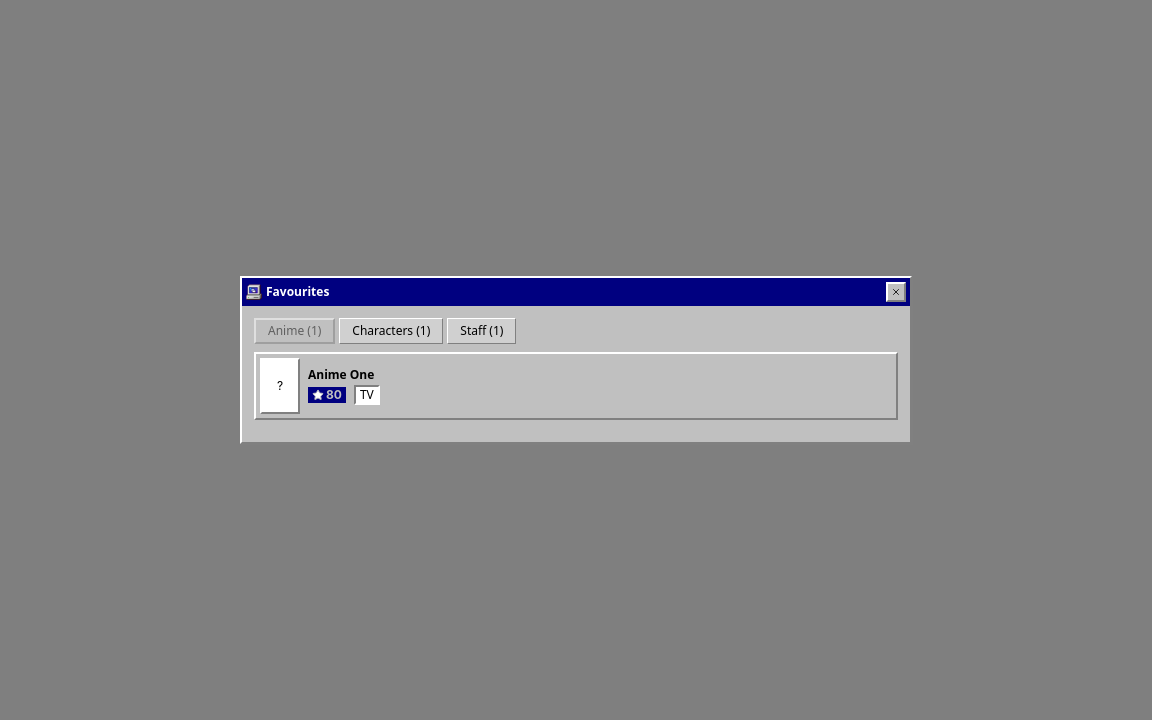
Test case: AniListFavouritesModal tabs › switches to the characters tab on click
Click the tab "Characters (1)" at (391, 331), box [339,318,443,344]
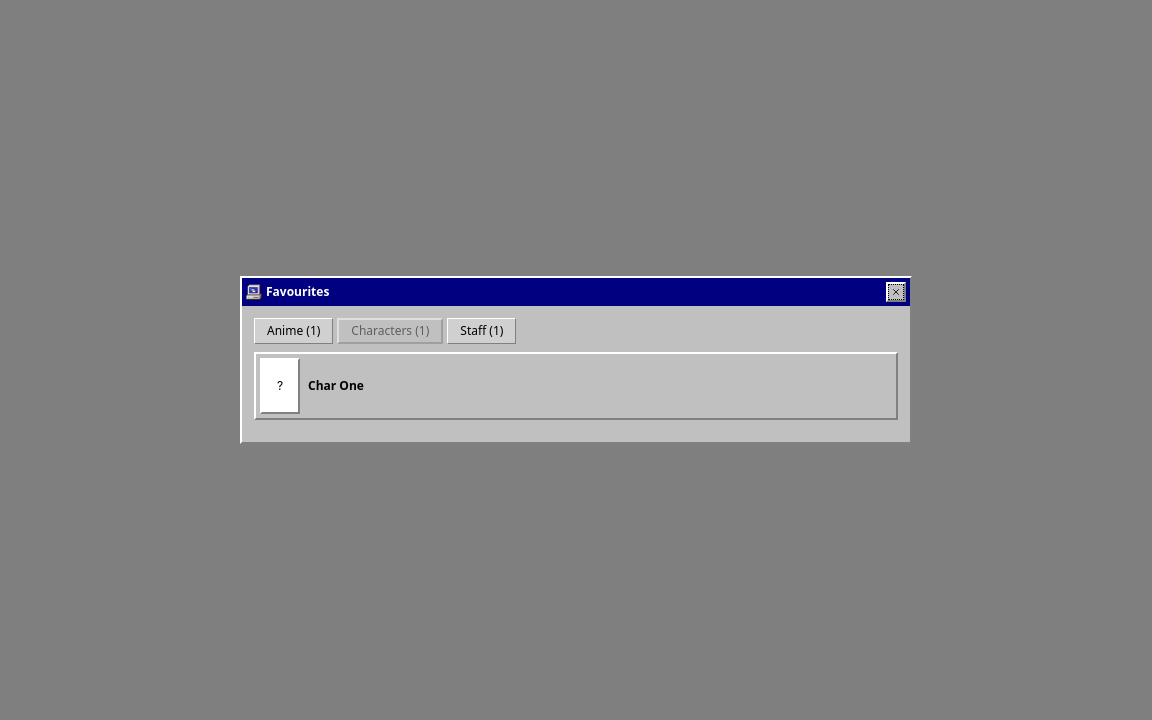
Expected: the text "Char One" is shown, [308,377,364,394]
Expected: the button "Anime One" is gone
